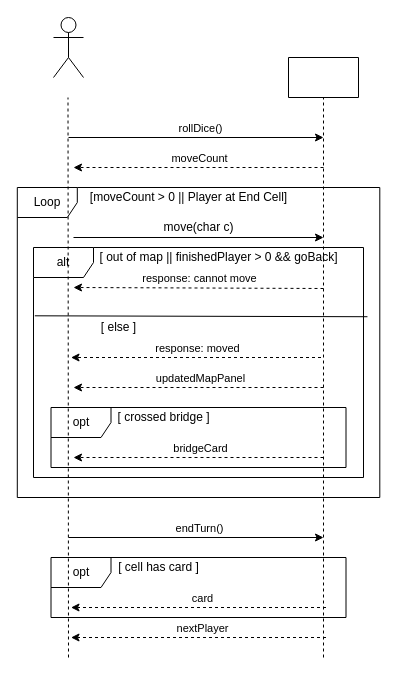
Image size: 398x676. Some labels were removed from this diagram. Here are the shapes that lost their labels. From the top down, the centre of each, then its label:
At (x=68, y=47): "Actor".
At (x=323, y=77): ":System".
